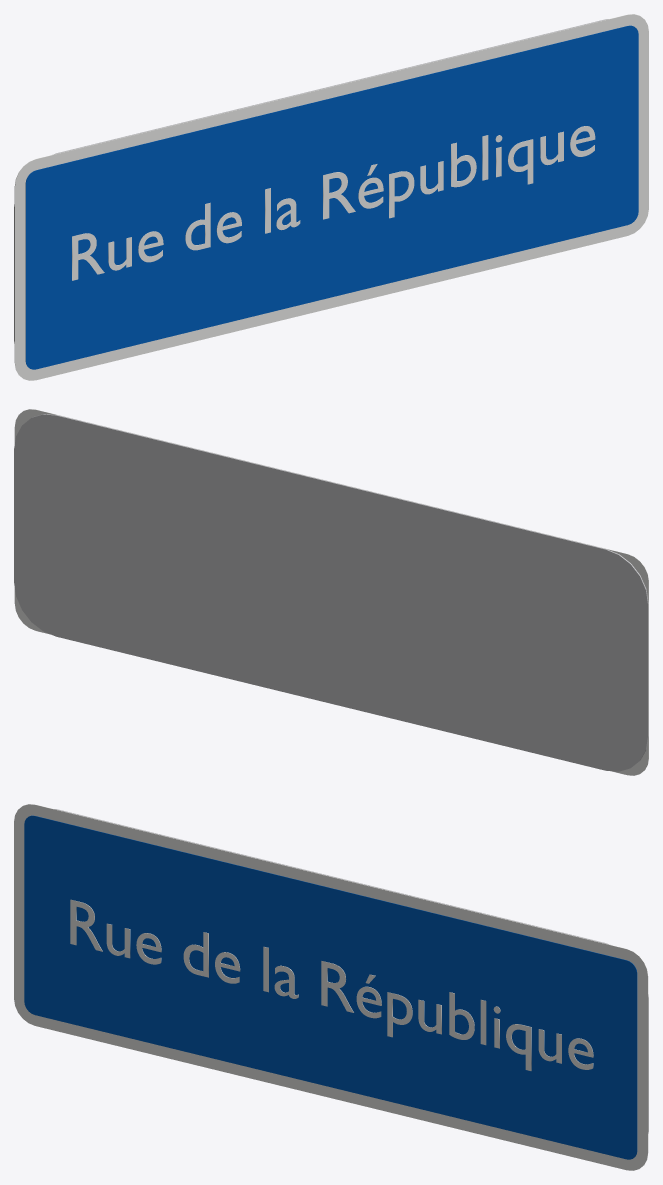
3 views of the same model, one above another, from view 1: azimuth 30°, elevation 25°; view 2: azimuth 150°, elevation 25°; view 3: azimuth 330°, elevation 25° (orthographic).
Parts seen in each view (by area): view 1: E60_fond01, E60_cadre00, E60_txt02, E60_dos; view 2: E60_dos, E60_cadre00; view 3: E60_fond01, E60_cadre00, E60_txt02, E60_dos.
Boxes of the visible parts, left/top/right/bottom form: E60_fond01: left=25, top=25, right=638, bottom=369; E60_cadre00: left=14, top=14, right=648, bottom=380; E60_txt02: left=72, top=126, right=595, bottom=280; E60_dos: left=14, top=19, right=608, bottom=343; E60_dos: left=14, top=414, right=648, bottom=771; E60_cadre00: left=14, top=409, right=648, bottom=775; E60_fond01: left=24, top=815, right=637, bottom=1159; E60_cadre00: left=14, top=804, right=648, bottom=1170; E60_txt02: left=70, top=899, right=593, bottom=1070; E60_dos: left=54, top=809, right=648, bottom=1133.
Bounding box in the file's own units: 0.6 × 0.2 × 0.0025.
